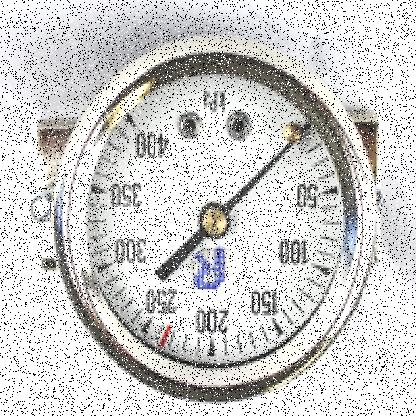needle: (221, 142, 294, 216)
